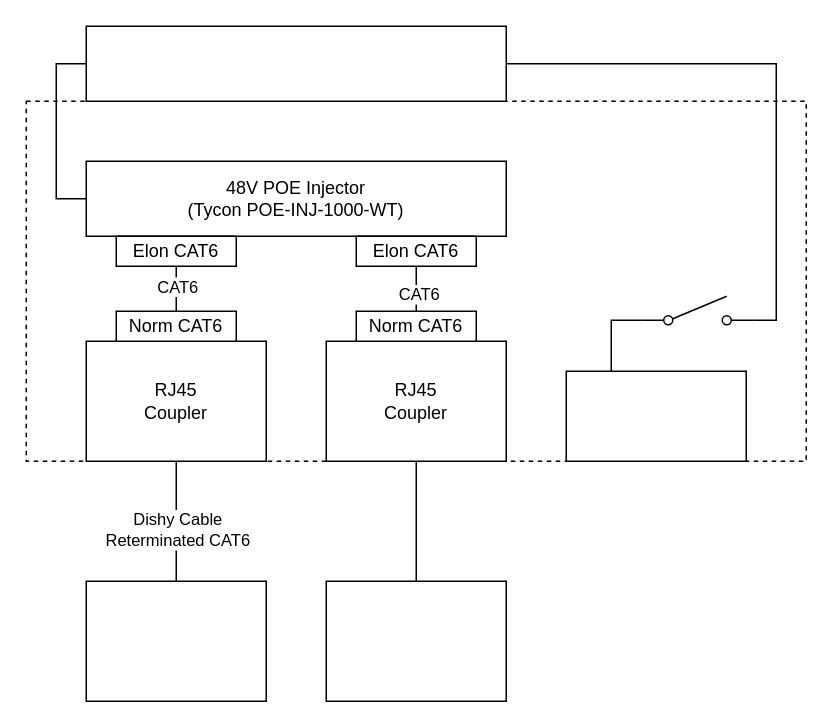
The diagram is 833 pixels wide and 728 high, and some of its shapes have lost their labels. The shapes that lost their labels are listed below. From the top down, each one's box as (x1, y1, x2, y2) in pixels, then its label:
(85, 25, 506, 101): 24V-48V Converter
(565, 370, 746, 461): Power Plug 5.5x2.1mm
(85, 580, 266, 701): V3 Dishy
(325, 580, 506, 701): Router (WAN)
